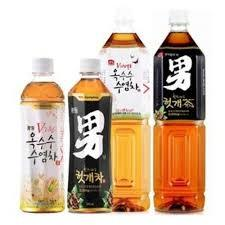heotgaecha: (67, 56, 112, 215)
oksususuyeomcha: (19, 56, 66, 213)
